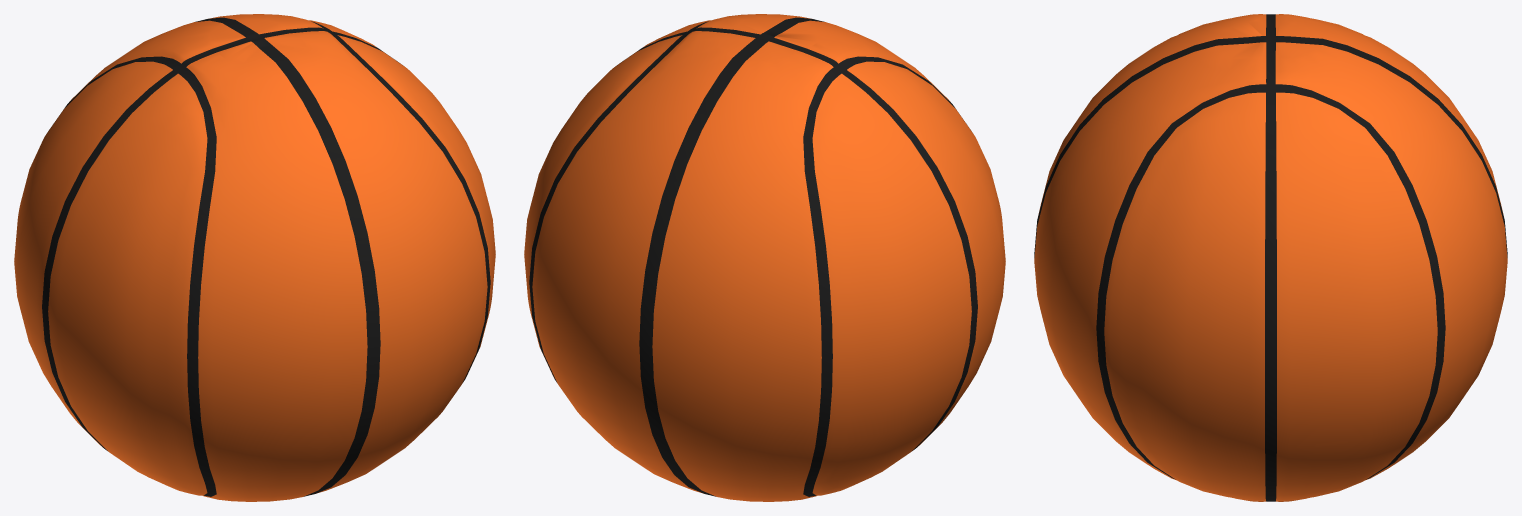
The model's file is BasketBall.fbx.
3 renders of one model, left to right at view 1: azimuth 30°, elevation 25°; view 2: azimuth 150°, elevation 25°; view 3: azimuth 270°, elevation 25°, orthographic.
Visible parts, largest first — view 1: basketball; view 2: basketball; view 3: basketball.
Boxes of the visible parts, <box> form: basketball: <box>14,14,495,501</box>; basketball: <box>524,14,1005,501</box>; basketball: <box>1034,14,1507,501</box>.
Bounding box in the file's own units: 1.95 × 1.95 × 1.92.
